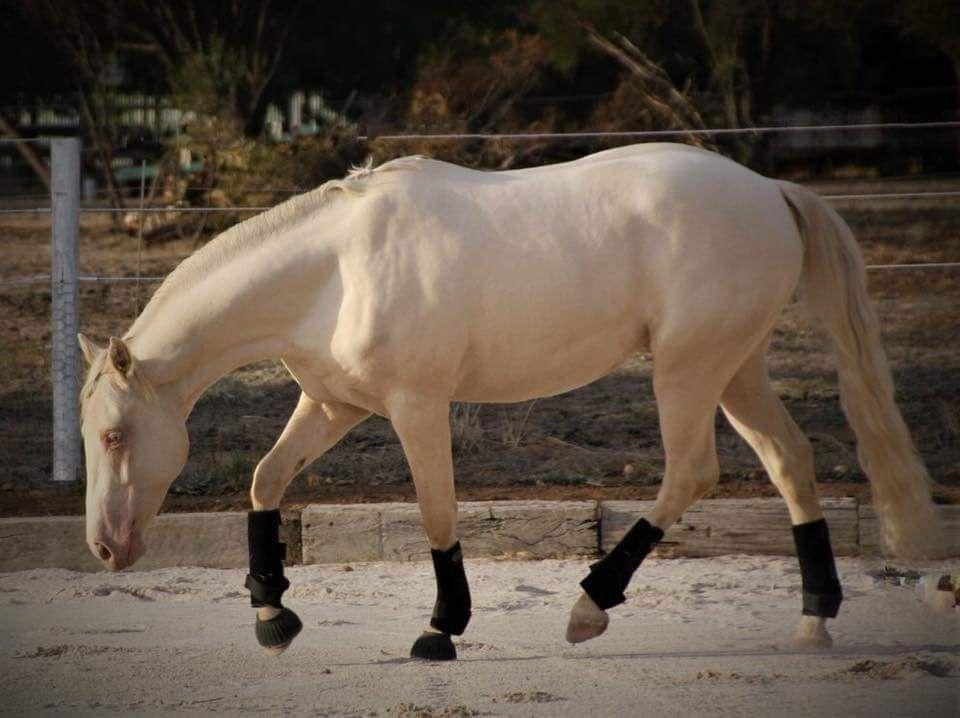horse: (74, 140, 953, 661)
